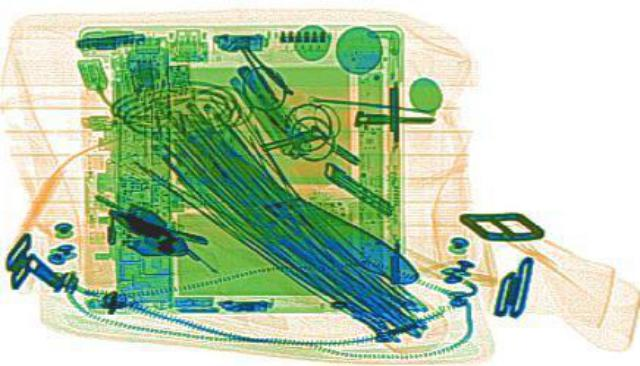Knife: (140, 116, 432, 288)
